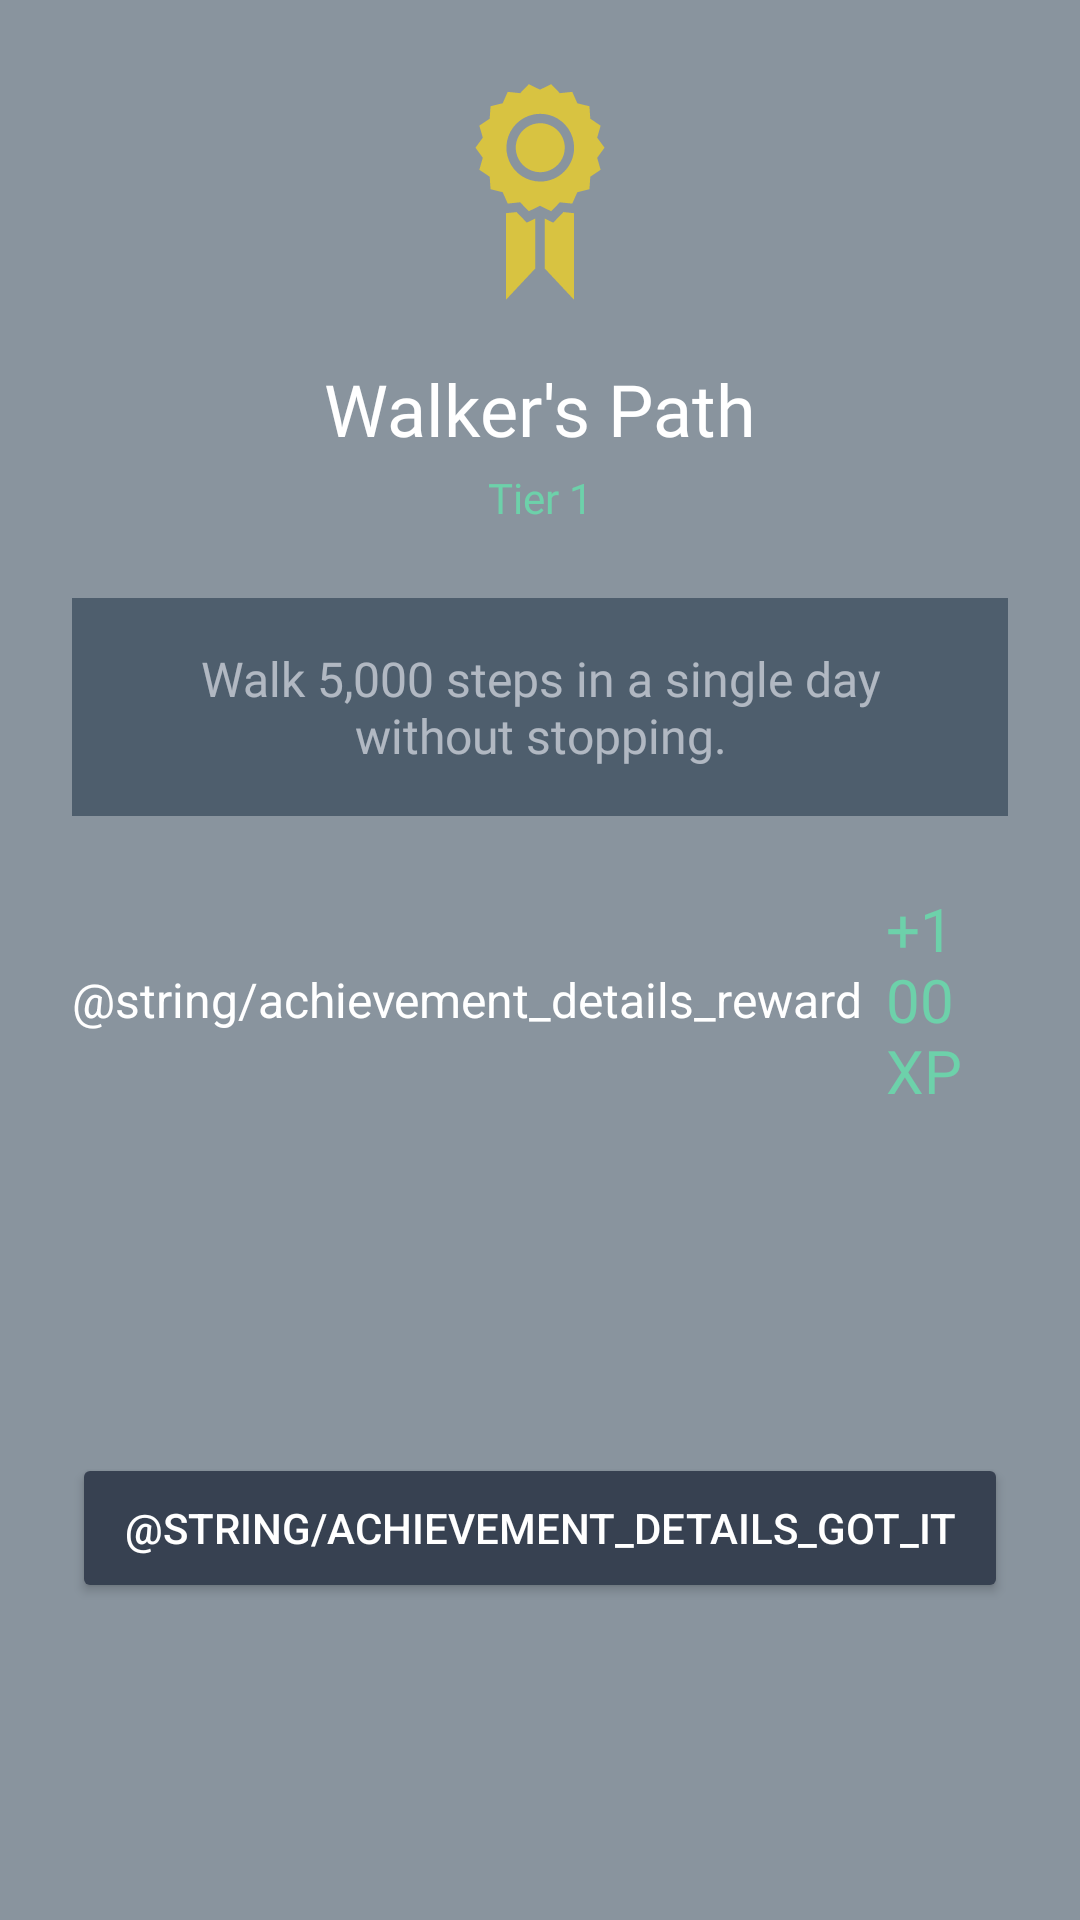

Icons on this 1080px×1920px Android screen, each with the point to tap as (x,y):
achievement: (540,191)
